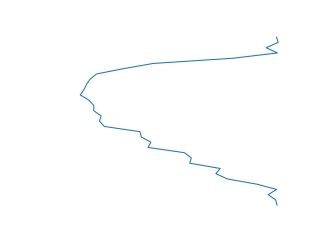mouthBar: (77, 36, 285, 206)
